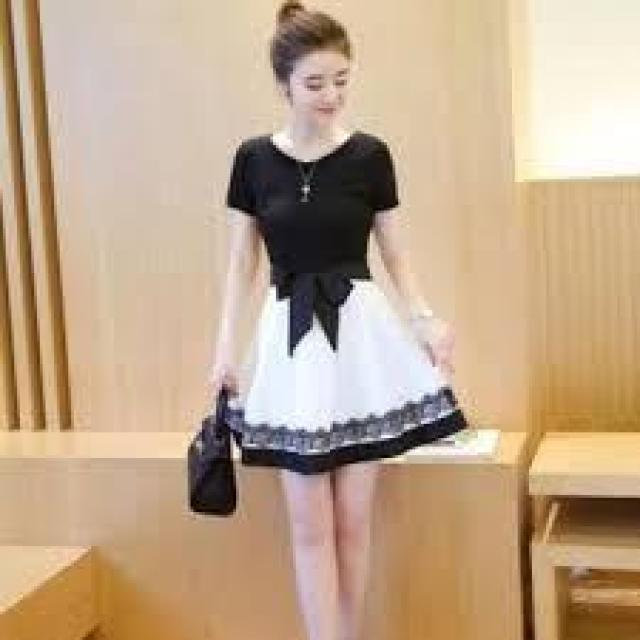dress: (220, 141, 460, 493)
